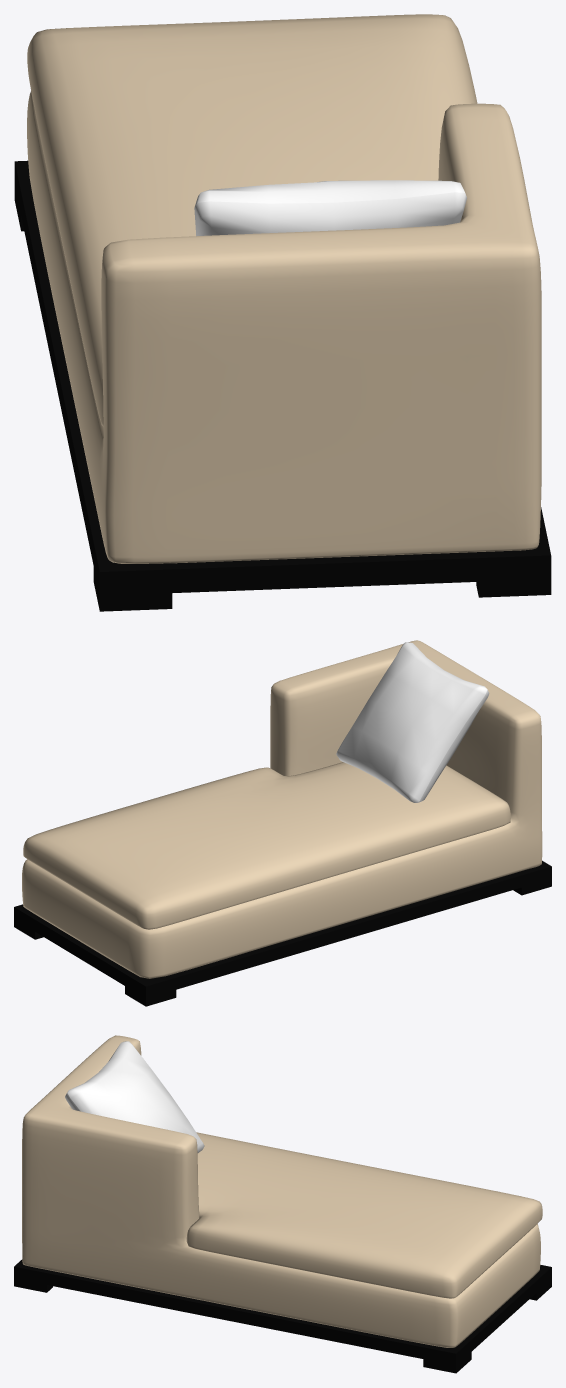
The model's file is sofa.obj.
3 views of the same model, one above another, from view 1: azimuth 30°, elevation 25°; view 2: azimuth 150°, elevation 25°; view 3: azimuth 270°, elevation 25° (orthographic). The views are drawn at different scales.
Parts seen in each view (by area): view 1: Box04, Box05, Box06, ChamferBox02; view 2: Box04, Box05, ChamferBox02, Box06; view 3: Box04, Box05, Box06, ChamferBox02.
Part boxes in pixels (<box>): Box04: <box>27,91,541,563</box>; Box05: <box>27,14,477,426</box>; Box06: <box>14,160,551,611</box>; ChamferBox02: <box>194,180,466,236</box>; Box04: <box>22,640,542,978</box>; Box05: <box>23,762,510,929</box>; ChamferBox02: <box>336,642,489,802</box>; Box06: <box>14,860,551,1006</box>; Box04: <box>22,1035,540,1347</box>; Box05: <box>186,1132,542,1298</box>; Box06: <box>14,1259,551,1373</box>; ChamferBox02: <box>65,1041,204,1152</box>.
Bounding box in the file's own units: 50.21 × 25.37 × 65.63.
